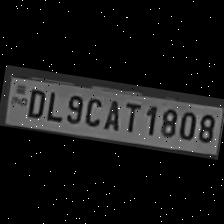0: (176, 106, 198, 140)
1: (138, 101, 160, 137)
8: (155, 102, 180, 140), (194, 108, 218, 144)
9: (61, 89, 84, 124)
A: (100, 94, 125, 132)
C: (80, 92, 106, 128)
D: (22, 83, 48, 119)
L: (43, 86, 64, 122)
T: (119, 98, 144, 134)
